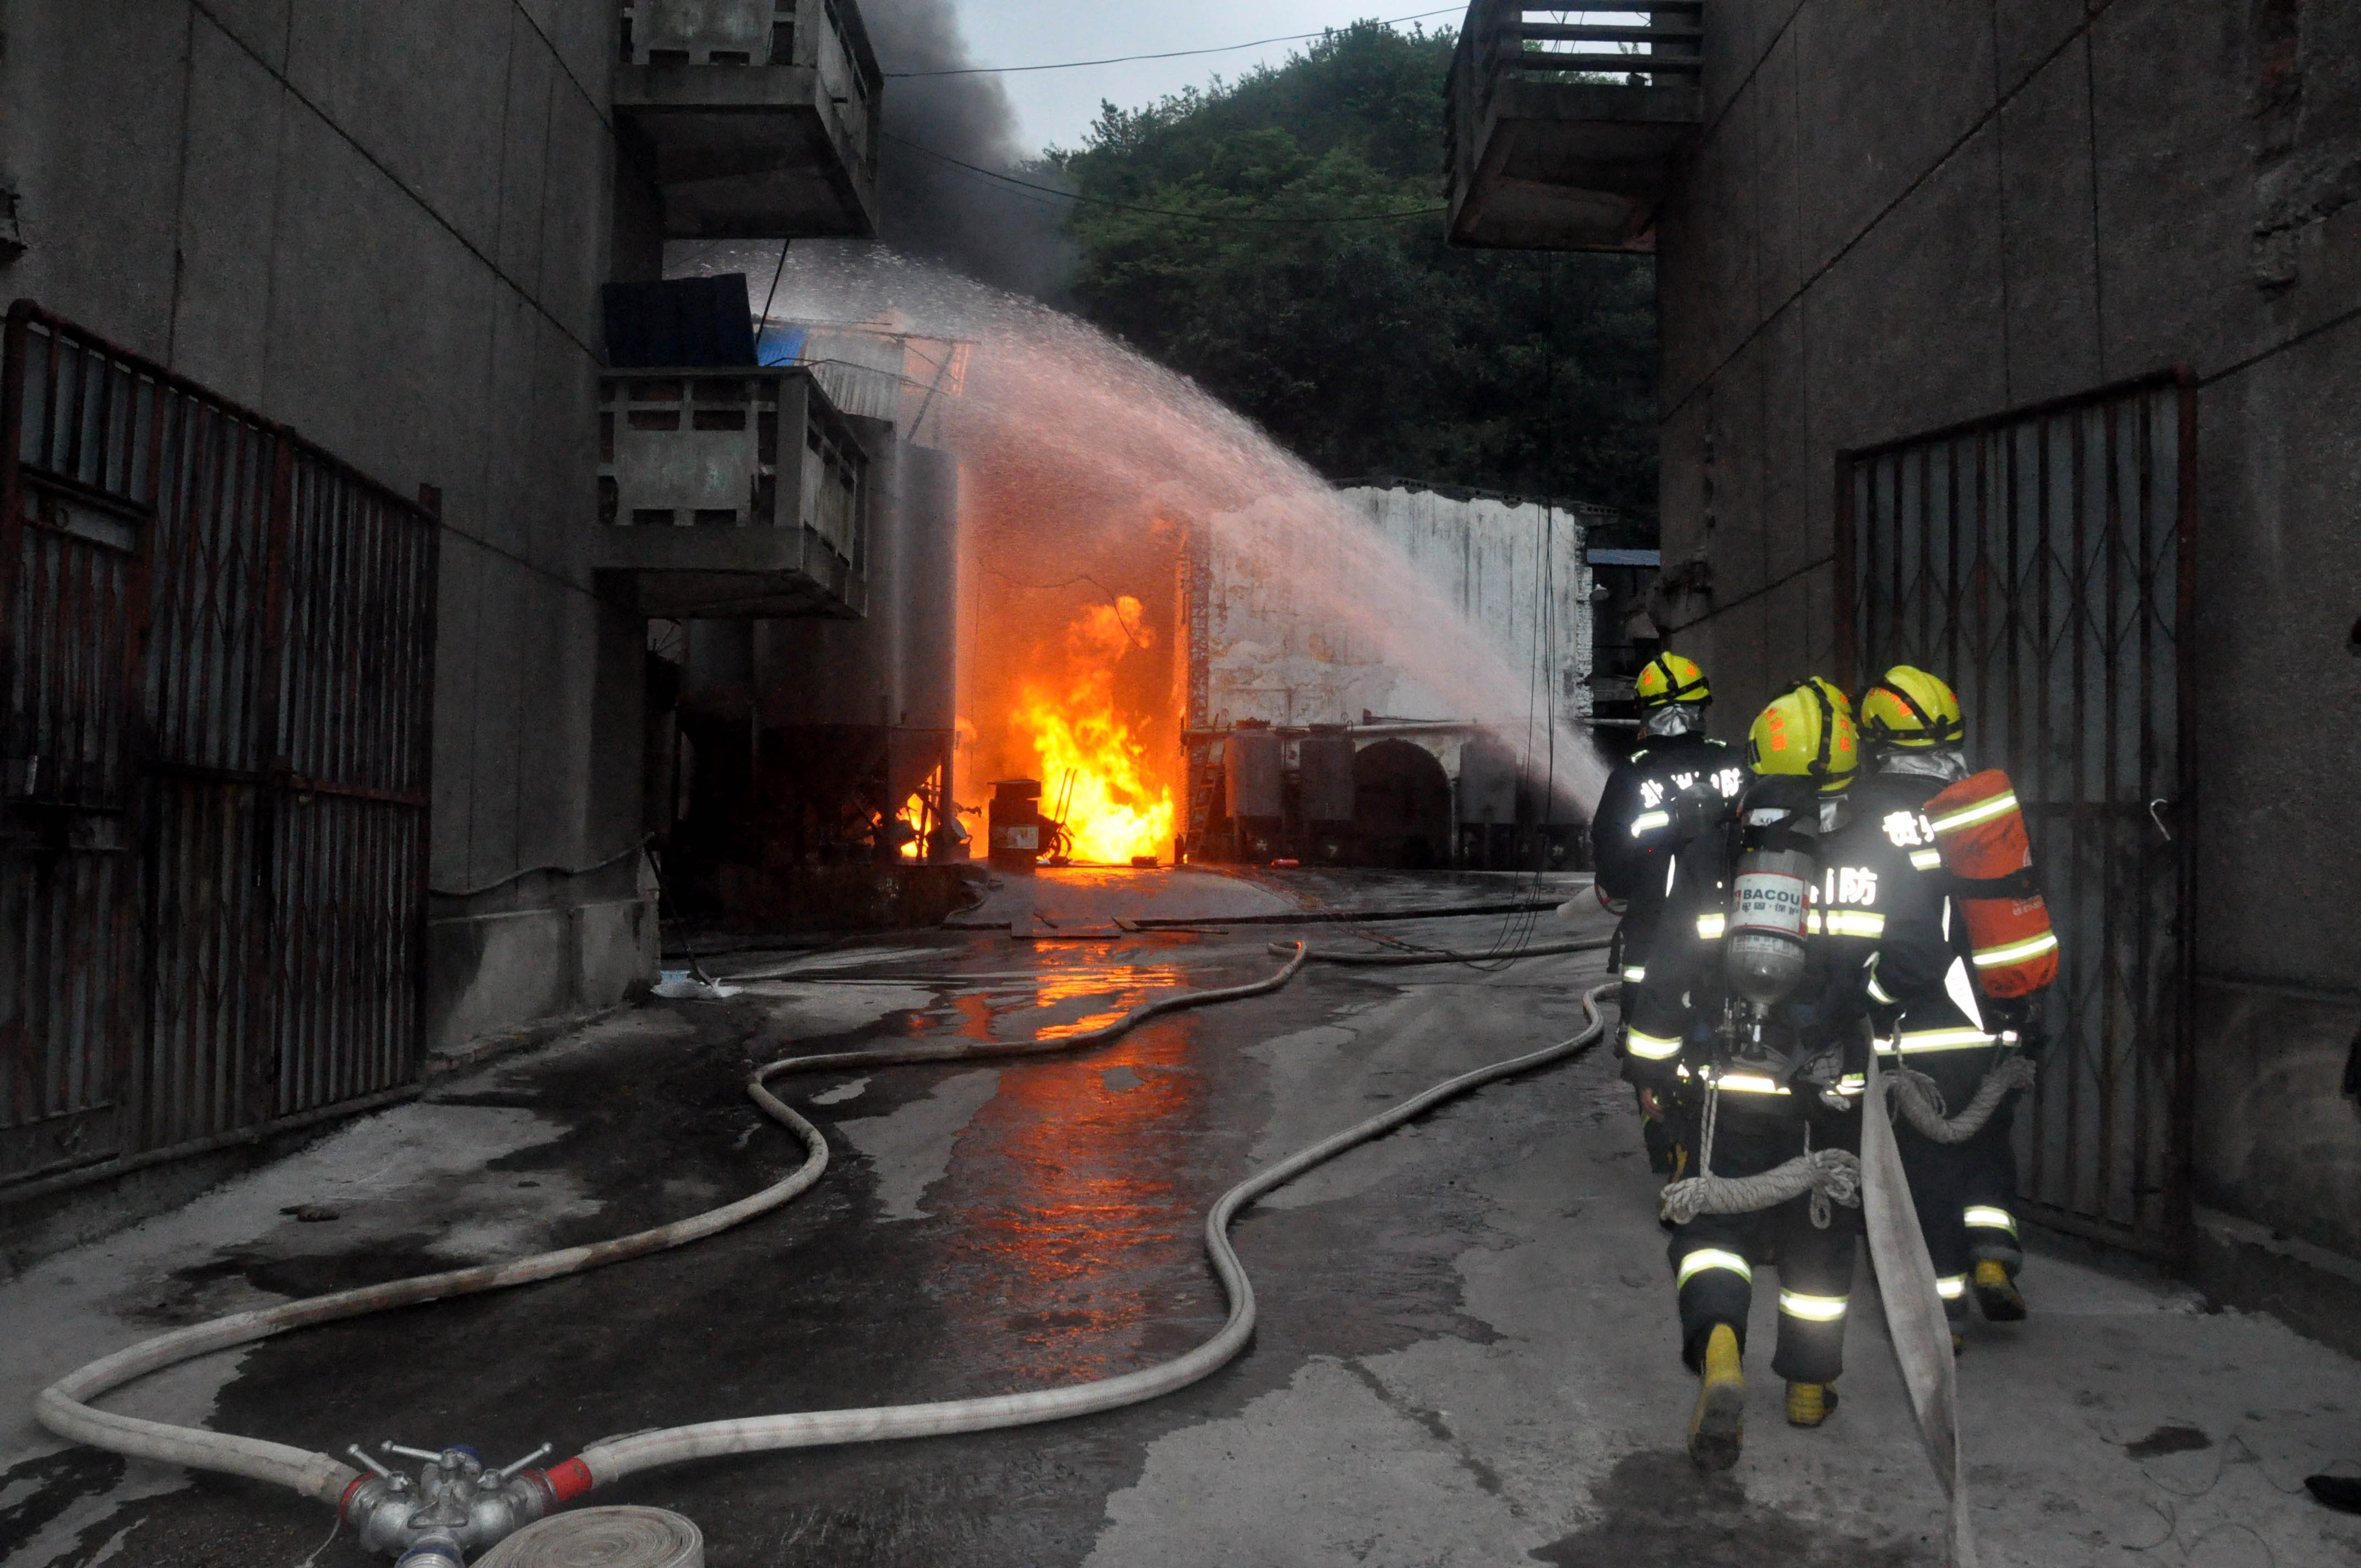fire: (968, 574, 1195, 866)
